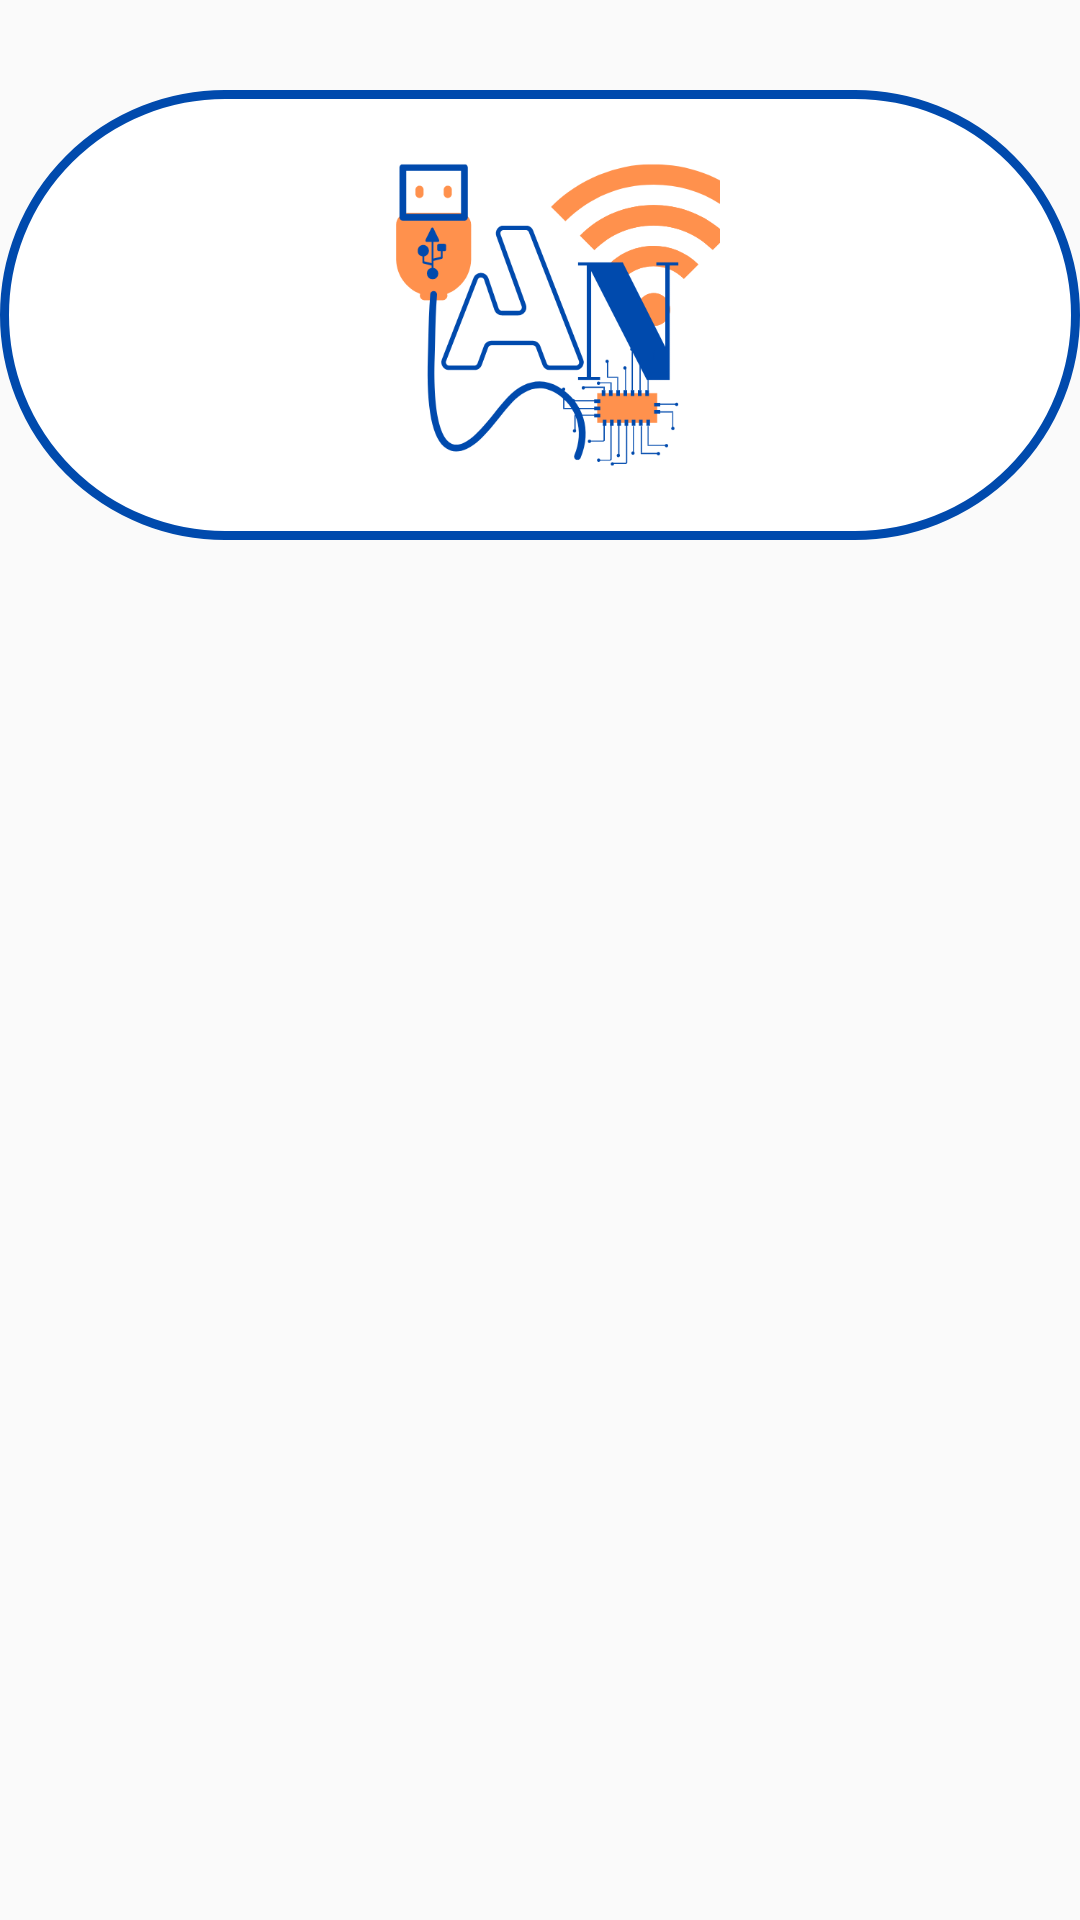

Icons on this 1080 × 1920 Android screen, each with its box as (x1, y1, x2, y2):
amblem: (396, 164, 720, 466)
